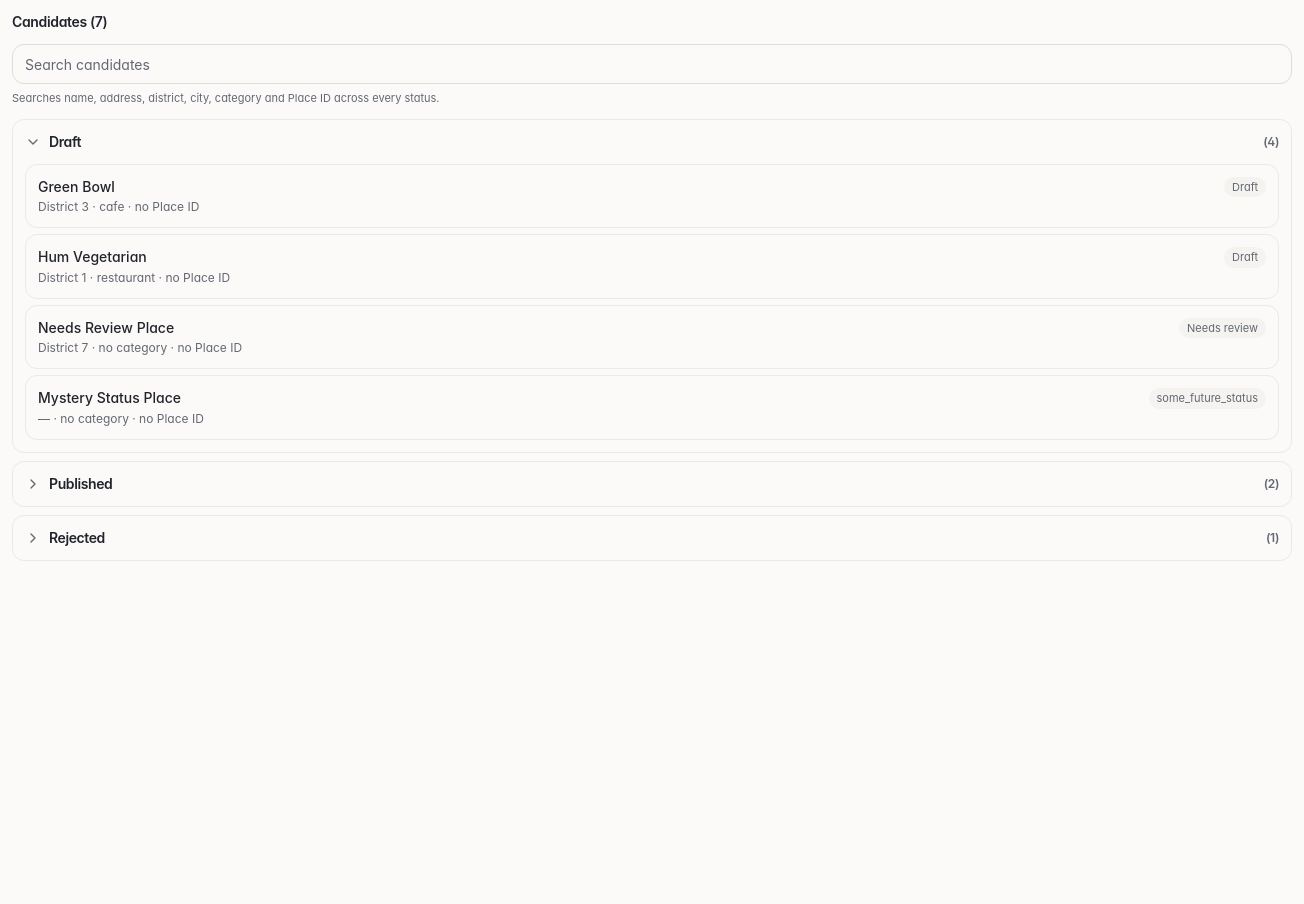
it: WO-128 candidate search › opens a candidate from its card
Click the text "Hum Vegetarian". click: (92, 257)
box: [38,247,147,267]
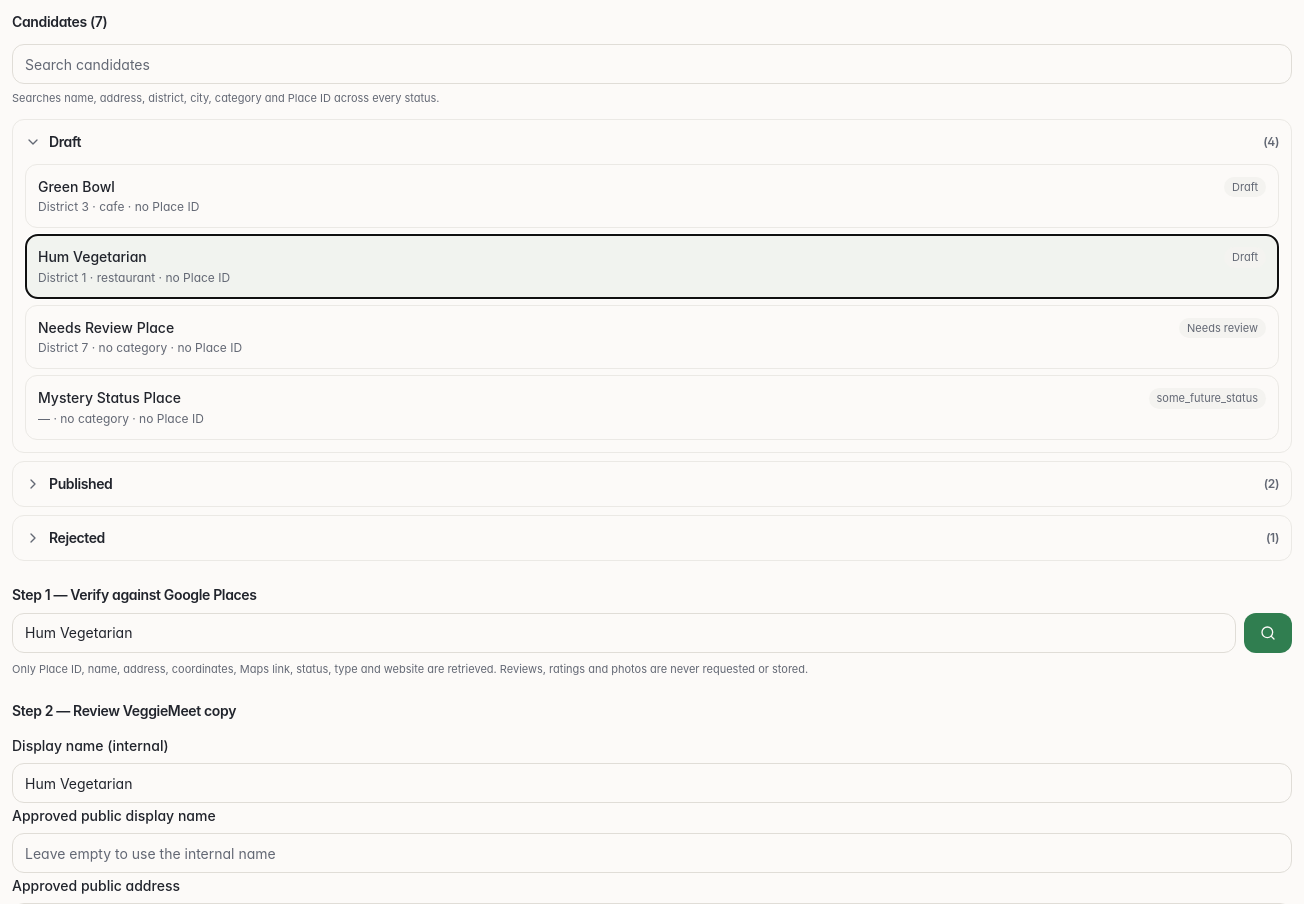
Expected: the heading "Step 1 — Verify against Google Places" is shown, [12,586,257,602]
